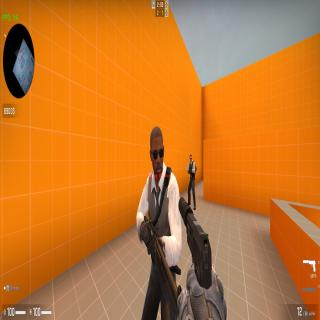T-Body: (136, 126, 180, 320), (186, 154, 196, 210)
T-Head: (150, 126, 164, 182), (190, 154, 192, 163)
